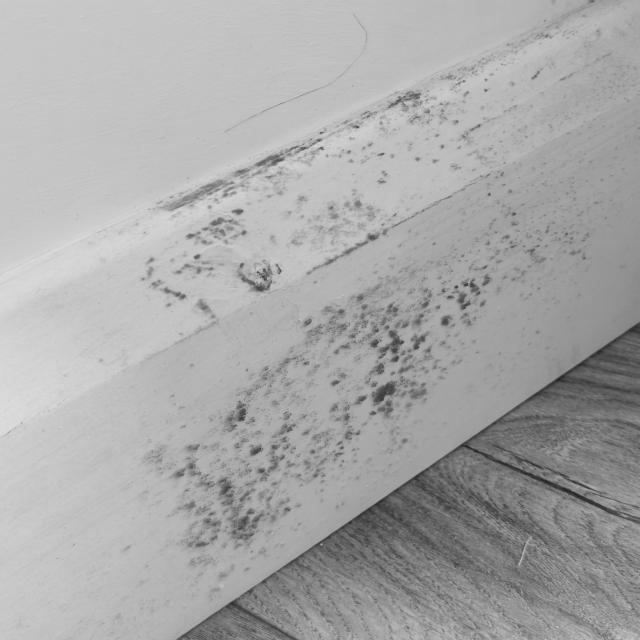stain marks: (145, 2, 630, 620)
